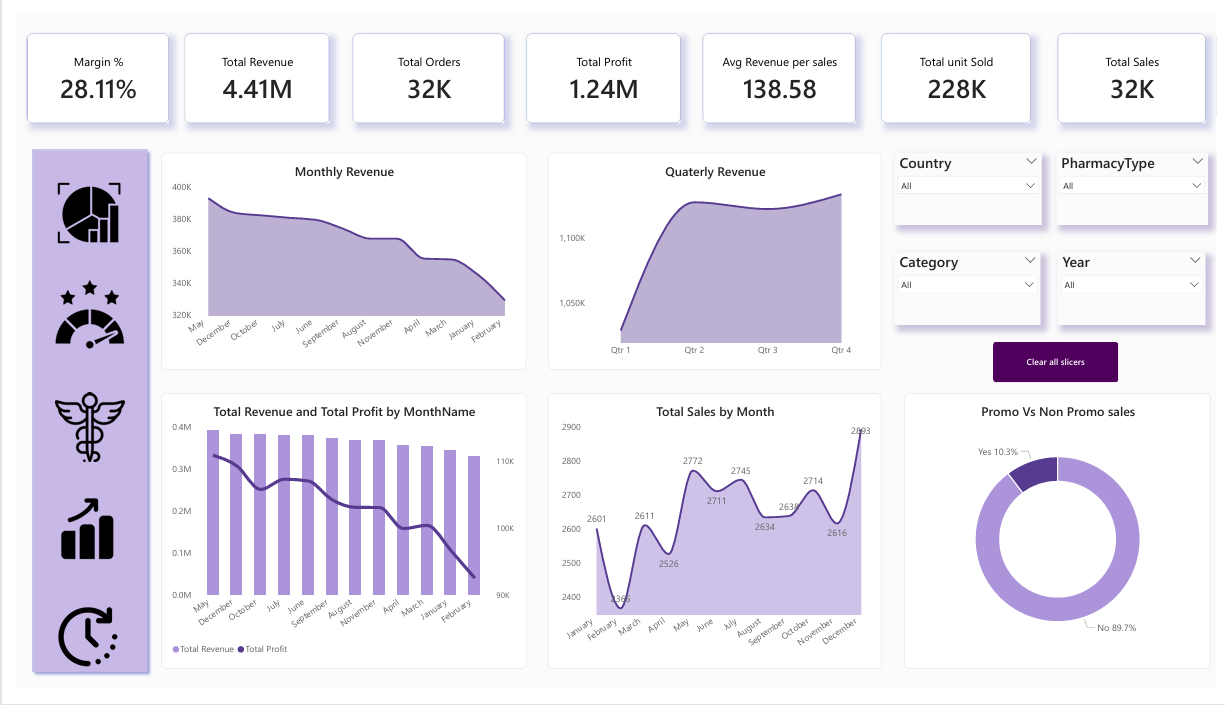

What the dashboard file says about the page in this screenshot:
{"tool":"powerbi","page":{"name":"Overview","canvas":[1920,1080],"ordinal":0},"visuals":[{"type":"cardVisual","fields":{"Data":["FactSales.Total Revenue"]},"box":[267.6,30.9,232.6,144.1],"z":0},{"type":"cardVisual","fields":{"Data":["FactSales.Total Orders"]},"box":[537.2,30.9,242.9,144.1],"z":1000},{"type":"cardVisual","fields":{"Data":["FactSales.Total unit Sold"]},"box":[1383.2,30.9,238.8,144.1],"z":2000},{"type":"cardVisual","fields":{"Data":["FactSales.Total Profit"]},"box":[815.1,30.9,247,144.1],"z":3000},{"type":"cardVisual","fields":{"Data":["FactSales.Avg Revenue per sales"]},"box":[1097.1,30.9,244.9,144.1],"z":4000},{"type":"areaChart","title":"Monthly Revenue","fields":{"Category":["DimDate.MonthName"],"Y":["Sum(FactSales.RevenueEUR)"]},"box":[230.5,222.3,584.6,347.9],"z":5000},{"type":"areaChart","title":"Quaterly Revenue","fields":{"Category":["DimDate.Date.Variation.Date Hierarchy.Quarter"],"Y":["Sum(FactSales.RevenueEUR)"]},"box":[850.1,222.3,533.1,347.9],"z":6000},{"type":"lineClusteredColumnComboChart","fields":{"Category":["DimDate.MonthName"],"Y2":["FactSales.Total Profit"],"Y":["FactSales.Total Revenue"]},"box":[230.5,607.2,584.6,440.5],"z":7000},{"type":"areaChart","fields":{"Category":["DimDate.Date.Variation.Date Hierarchy.Year","DimDate.Date.Variation.Date Hierarchy.Quarter","DimDate.Date.Variation.Date Hierarchy.Month","DimDate.Date.Variation.Date Hierarchy.Day"],"Y":["FactSales.Total Sales"]},"box":[850.1,607.2,533.1,440.5],"z":8000},{"type":"cardVisual","fields":{"Data":["FactSales.Margin %"]},"box":[16.5,30.9,226.4,144.1],"z":9000},{"type":"cardVisual","fields":{"Data":["FactSales.Total Sales"]},"box":[1665.2,30.9,236.7,144.1],"z":10000},{"type":"slicer","fields":{"Values":["DimPharmacy.PharmacyType"]},"box":[1663.1,222.3,242.9,115.3],"z":11000},{"type":"donutChart","title":"Promo Vs Non Promo sales","fields":{"Category":["FactSales.PromoFlag"],"Y":["Sum(FactSales.RevenueEUR)"]},"box":[1420.2,607.2,489.9,440.5],"z":12000},{"type":"slicer","fields":{"Values":["DimDate.Date.Variation.Date Hierarchy.Year"]},"box":[1665.2,380.8,236.7,117.3],"z":13000},{"type":"slicer","fields":{"Values":["DimProduct.Category"]},"box":[1403.8,380.8,234.6,117.3],"z":14000},{"type":"slicer","fields":{"Values":["DimPharmacy.Country"]},"box":[1403.8,222.3,236.7,115.3],"z":15000},{"type":"actionButton","box":[1562.3,524.9,199.7,63.8],"z":16000},{"type":"shape","box":[16.5,207.9,201.7,854.2],"z":16500,"group":"g1"},{"type":"group","id":"g1","title":"Group 1","box":[16.5,207.9,201.7,854.2],"z":16506},{"type":"image","box":[45.3,422,142,117.3],"z":17005,"group":"g1"},{"type":"image","box":[43.3,944.8,140,102.9],"z":17505,"group":"g1"},{"type":"image","box":[61.8,588.7,111.1,144.1],"z":18005,"group":"g1"},{"type":"image","box":[59.7,255.2,113.2,125.6],"z":18505,"group":"g1"},{"type":"image","box":[41.2,767.8,142,111.1],"z":19005,"group":"g1"}]}

Visuals, with their boxes in screenshot pixels (x1, y1, x2, y2), scaled from the page's 1920x1080 canvas onto the 1225x705 screenshot:
cardVisual - FactSales.Total Revenue: {"left": 171, "top": 20, "right": 319, "bottom": 114}
cardVisual - FactSales.Total Orders: {"left": 343, "top": 20, "right": 498, "bottom": 114}
cardVisual - FactSales.Total unit Sold: {"left": 883, "top": 20, "right": 1035, "bottom": 114}
cardVisual - FactSales.Total Profit: {"left": 520, "top": 20, "right": 678, "bottom": 114}
cardVisual - FactSales.Avg Revenue per sales: {"left": 700, "top": 20, "right": 856, "bottom": 114}
"Monthly Revenue" areaChart: {"left": 147, "top": 145, "right": 520, "bottom": 372}
"Quaterly Revenue" areaChart: {"left": 542, "top": 145, "right": 883, "bottom": 372}
lineClusteredColumnComboChart - DimDate.MonthName x FactSales.Total Profit: {"left": 147, "top": 396, "right": 520, "bottom": 684}
areaChart - DimDate.Date.Variation.Date Hierarchy.Year x DimDate.Date.Variation.Date Hierarchy.Quarter: {"left": 542, "top": 396, "right": 883, "bottom": 684}
cardVisual - FactSales.Margin %: {"left": 11, "top": 20, "right": 155, "bottom": 114}
cardVisual - FactSales.Total Sales: {"left": 1062, "top": 20, "right": 1213, "bottom": 114}
slicer - DimPharmacy.PharmacyType: {"left": 1061, "top": 145, "right": 1216, "bottom": 220}
"Promo Vs Non Promo sales" donutChart: {"left": 906, "top": 396, "right": 1219, "bottom": 684}
slicer - DimDate.Date.Variation.Date Hierarchy.Year: {"left": 1062, "top": 249, "right": 1213, "bottom": 325}
slicer - DimProduct.Category: {"left": 896, "top": 249, "right": 1045, "bottom": 325}
slicer - DimPharmacy.Country: {"left": 896, "top": 145, "right": 1047, "bottom": 220}
actionButton: {"left": 997, "top": 343, "right": 1124, "bottom": 384}
shape: {"left": 11, "top": 136, "right": 139, "bottom": 693}
"Group 1" group: {"left": 11, "top": 136, "right": 139, "bottom": 693}
image: {"left": 29, "top": 275, "right": 120, "bottom": 352}
image: {"left": 28, "top": 617, "right": 117, "bottom": 684}
image: {"left": 39, "top": 384, "right": 110, "bottom": 478}
image: {"left": 38, "top": 167, "right": 110, "bottom": 249}
image: {"left": 26, "top": 501, "right": 117, "bottom": 574}
